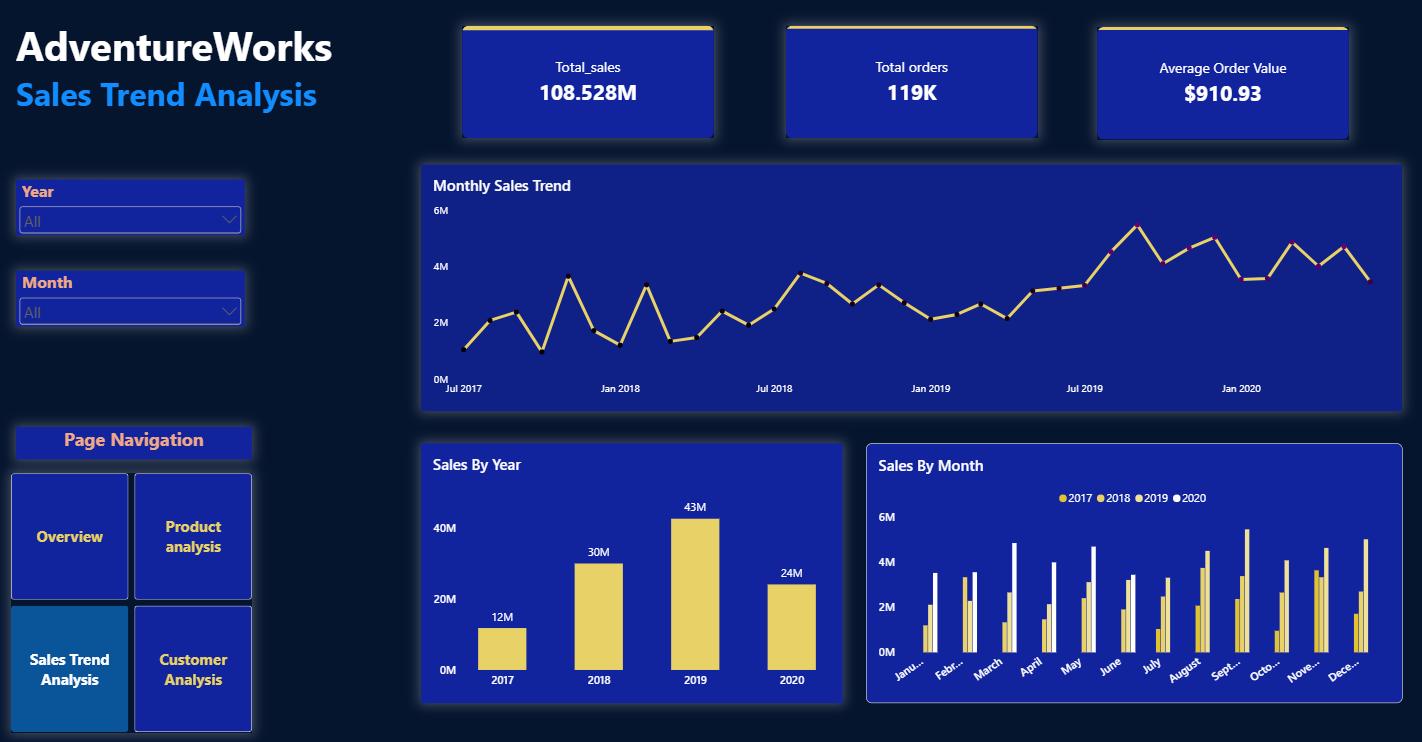

The dashboard page shown, as its layout file describes it:
{"tool":"powerbi","page":{"name":"Sales Trend Analysis","canvas":[1920,1080],"ordinal":2},"visuals":[{"type":"cardVisual","fields":{"Data":["Sales.Total_sales"]},"box":[622.5,38,336.6,150.2],"z":0},{"type":"cardVisual","fields":{"Data":["Sales.Total orders"]},"box":[1055,38,336.6,150.2],"z":1000},{"type":"cardVisual","fields":{"Data":["Sales.Average Order Value"]},"box":[1471.3,39.8,336.6,150.2],"z":2000},{"type":"textbox","box":[27.1,29,470.5,161.1],"z":3000},{"type":"slicer","fields":{"Values":["Date.Date.Variation.Date Hierarchy.Year"]},"box":[27.1,244.3,305.9,74.4],"z":4000},{"type":"slicer","fields":{"Values":["Date.Full Date.Variation.Date Hierarchy.Month"]},"box":[27.1,365.6,305.9,74.4],"z":5000},{"type":"pageNavigator","box":[19.9,637,322.1,347.5],"z":6000},{"type":"textbox","box":[27.1,573.7,314.9,43.4],"z":7000},{"type":"lineChart","title":"Monthly Sales Trend","fields":{"Category":["Date.Full Date.Variation.Date Hierarchy.Year","Date.Full Date.Variation.Date Hierarchy.Month"],"Y":["Sales.Total_sales"]},"box":[568.2,224.4,1310.2,329.4],"z":8000},{"type":"clusteredColumnChart","title":"Sales By Year","fields":{"Category":["Date.Full Date.Variation.Date Hierarchy.Year"],"Y":["Sales.Total_sales"]},"box":[568.2,595.4,562.8,347.5],"z":9000},{"type":"clusteredColumnChart","title":"Sales By Month","fields":{"Category":["Date.Full Date.Variation.Date Hierarchy.Month"],"Series":["Date.Full Date.Variation.Date Hierarchy.Year"],"Y":["Sales.Total_sales"]},"box":[1161.8,595.4,716.6,347.5],"z":10000}]}

Visuals, with their boxes on the page's 1920x1080 design canvas (x1, y1, x2, y2). These are canvas units, not pixel positions in the 1422x742 screenshot, which may show the page scaled, cropped or inside an application window:
cardVisual - Sales.Total_sales: 622, 38, 959, 188
cardVisual - Sales.Total orders: 1055, 38, 1392, 188
cardVisual - Sales.Average Order Value: 1471, 40, 1808, 190
textbox: 27, 29, 498, 190
slicer - Date.Date.Variation.Date Hierarchy.Year: 27, 244, 333, 319
slicer - Date.Full Date.Variation.Date Hierarchy.Month: 27, 366, 333, 440
pageNavigator: 20, 637, 342, 984
textbox: 27, 574, 342, 617
"Monthly Sales Trend" lineChart: 568, 224, 1878, 554
"Sales By Year" clusteredColumnChart: 568, 595, 1131, 943
"Sales By Month" clusteredColumnChart: 1162, 595, 1878, 943
